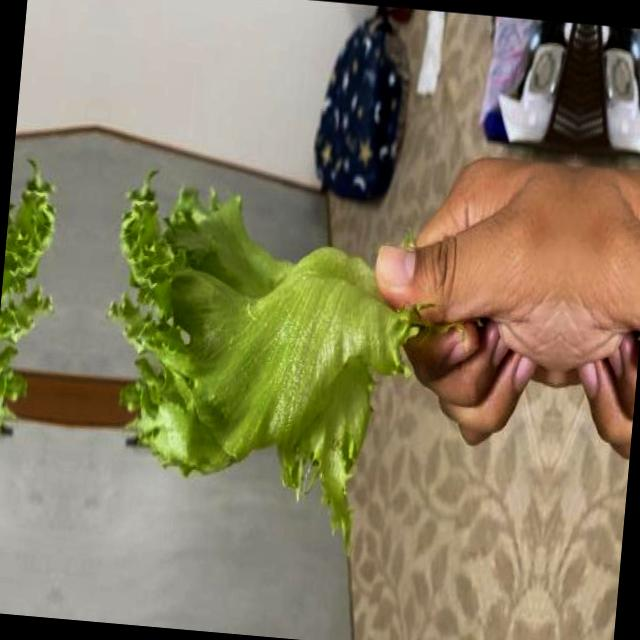healthy: (88, 160, 441, 560), (0, 150, 66, 526)
